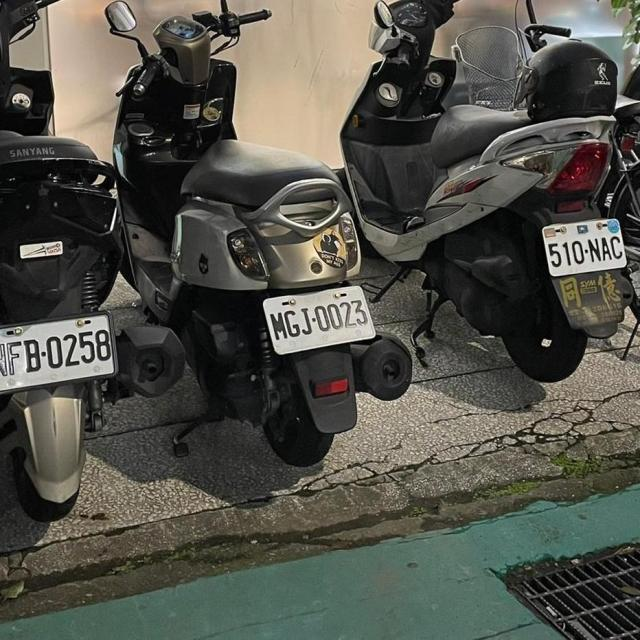W: (0, 307, 124, 395), (258, 282, 381, 356), (537, 213, 636, 278)
